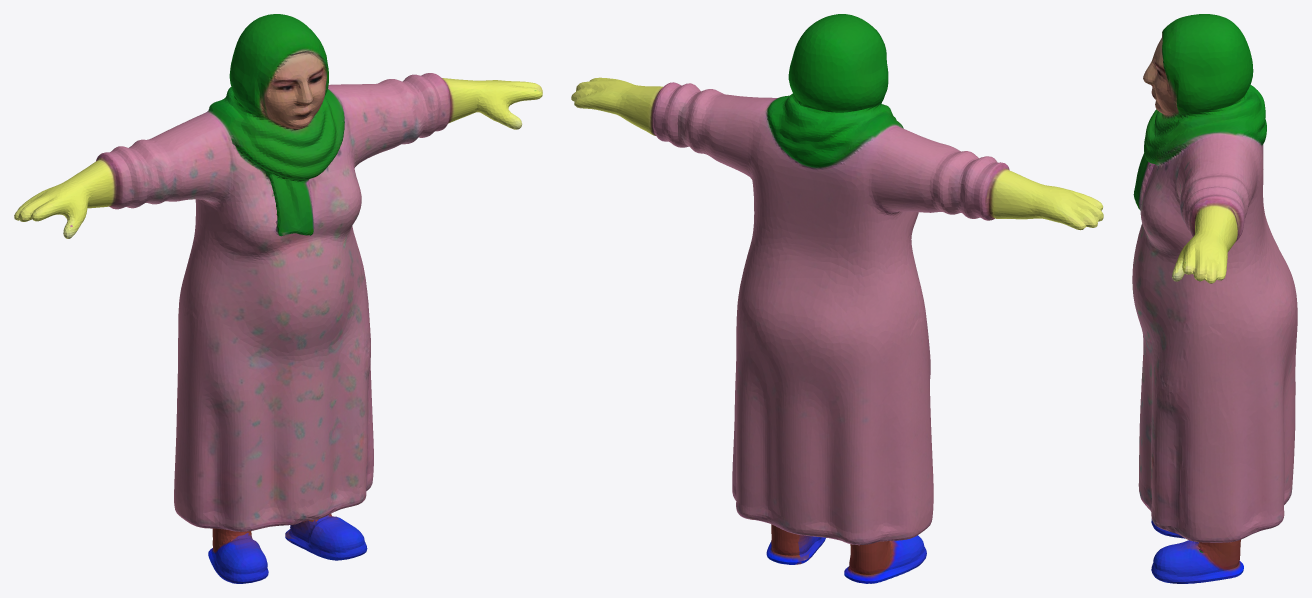
The model's file is om_hamada.glb.
The picture shows the model from 3 angles, left to right: view 1: azimuth 30°, elevation 25°; view 2: azimuth 150°, elevation 25°; view 3: azimuth 270°, elevation 25°; orthographic projection.
Parts seen in each view (by area): view 1: tmpuo334zj8.ply; view 2: tmpuo334zj8.ply; view 3: tmpuo334zj8.ply.
Boxes of the visible parts, x1,y1,x2,y2 form: tmpuo334zj8.ply: [14, 14, 542, 583]; tmpuo334zj8.ply: [571, 14, 1103, 583]; tmpuo334zj8.ply: [1132, 14, 1297, 583].
Size of the model in its own units: 1.99 by 1.95 by 0.5466.
1 material, 1 textured.
